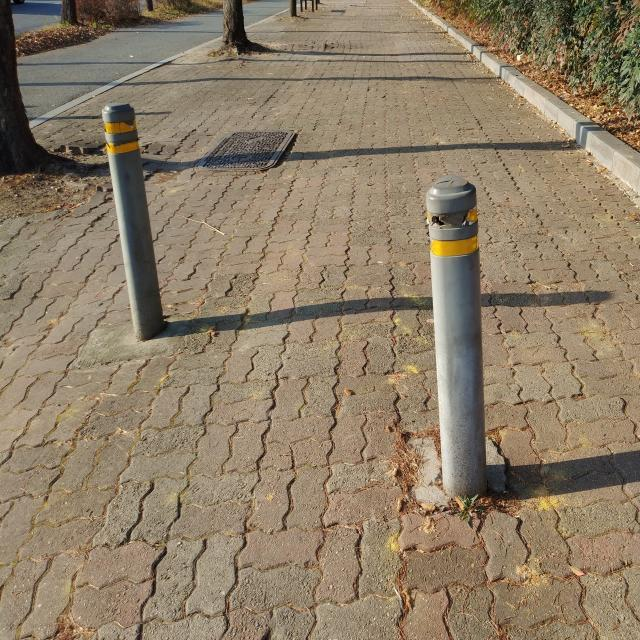pole: (424, 172, 490, 498), (90, 95, 174, 351)
